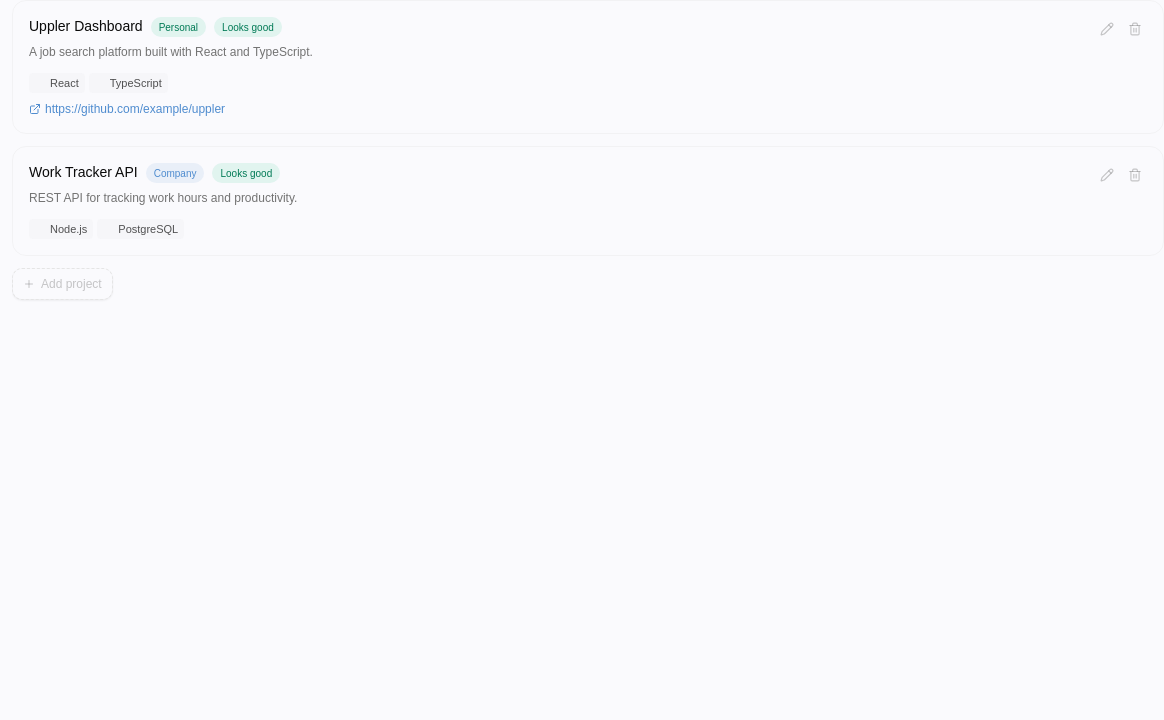
ReviewProjectsSection — edit › reverts changes on Discard
This screenshot has width=1164, height=720.
Click the button named "edit project" in the row of "Personal": (1107, 29) 1095,17 -> 1119,41
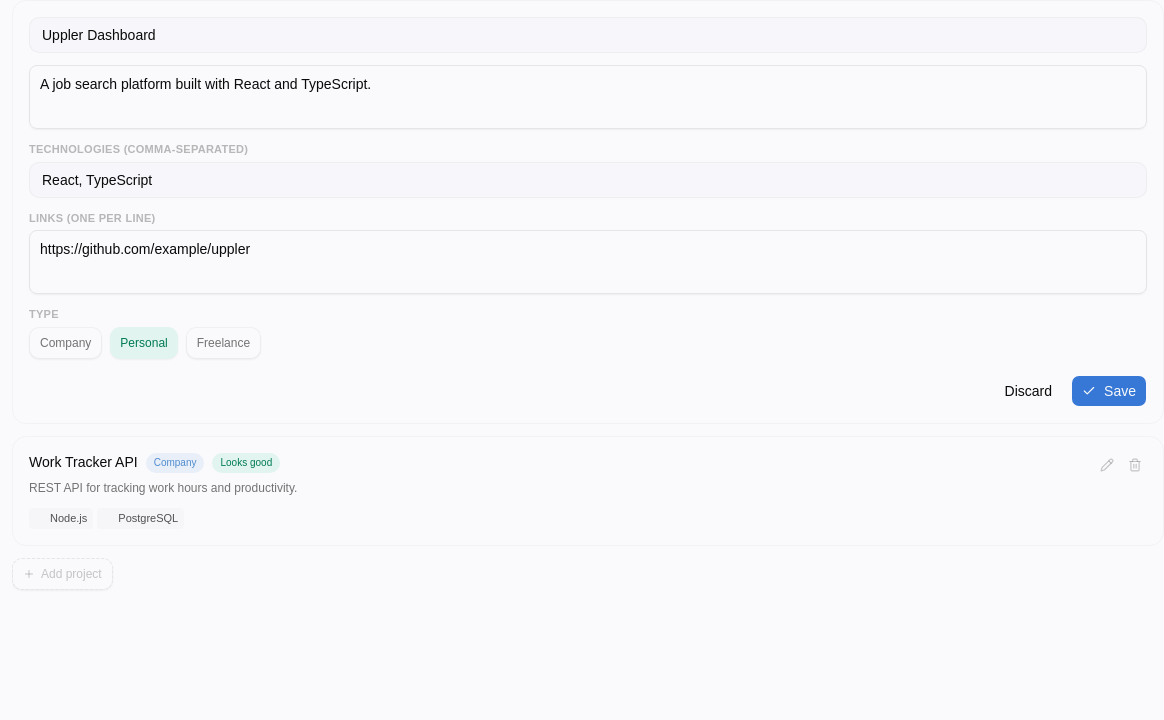
Replace the text in the 1st field showing "Uppler Dashboard" with "Changed name": (588, 35) 29,17 -> 1147,53
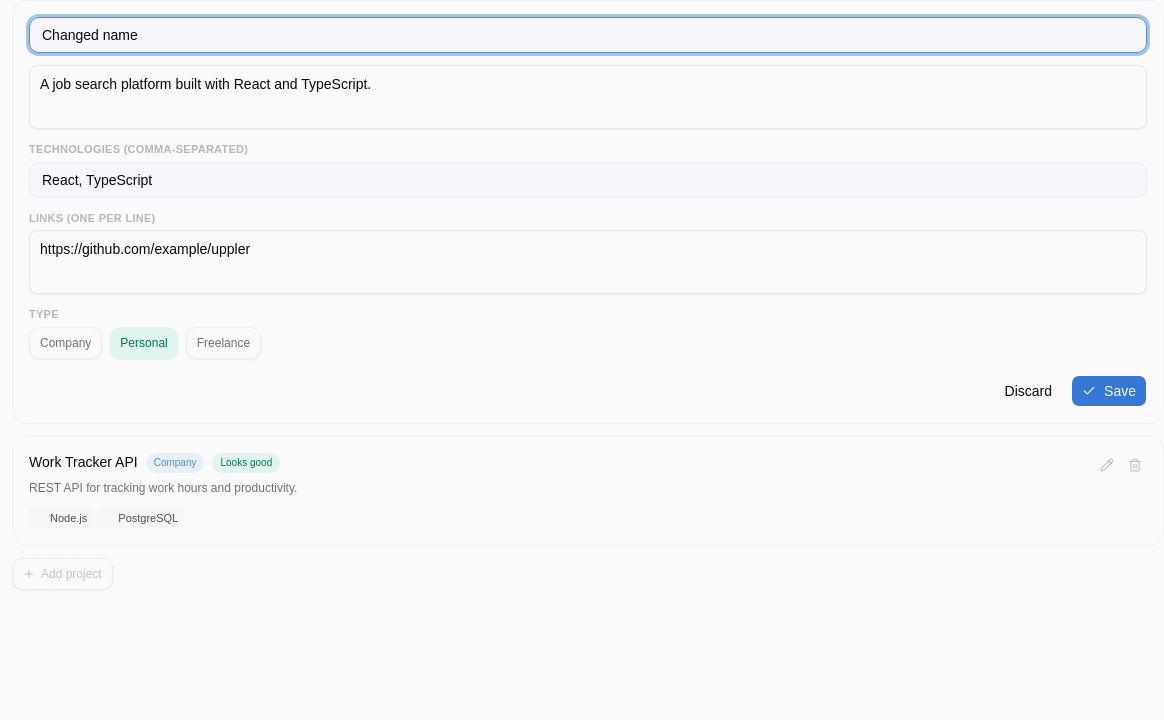
Click the button "Discard": (1028, 390) 994,374 -> 1063,406
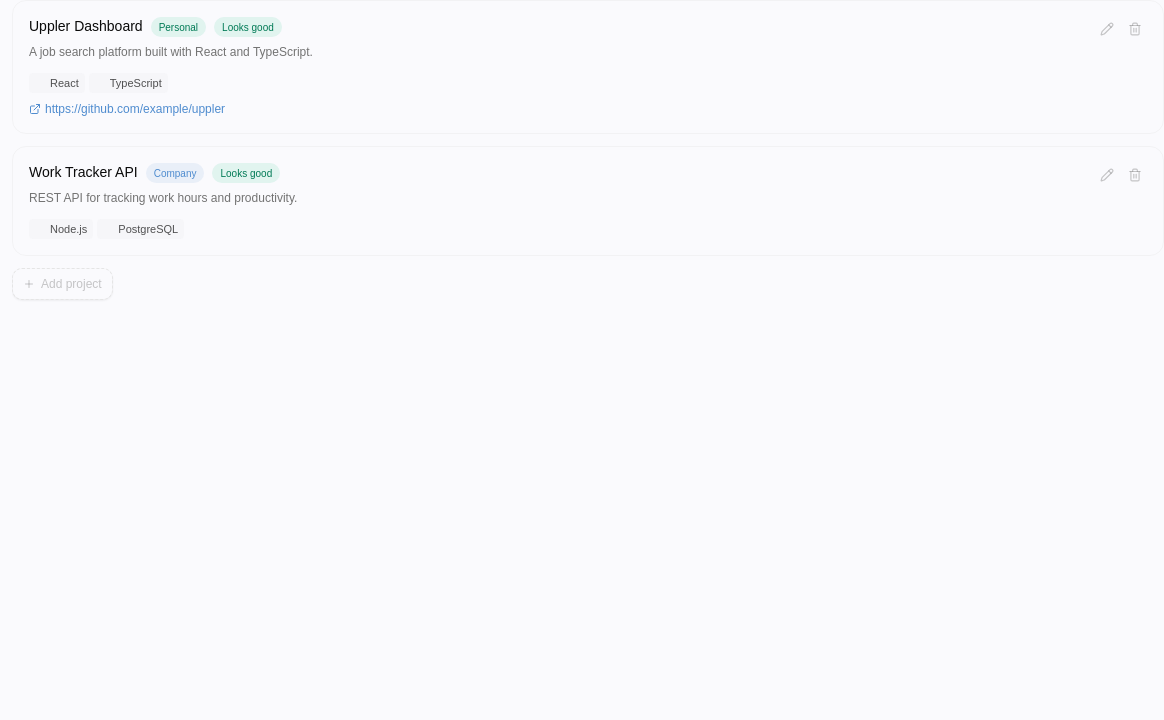
Expected: the text "Uppler Dashboard" is shown, 29,18 -> 143,36
